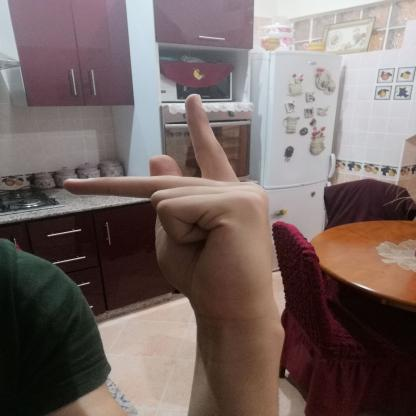DHAA: (48, 82, 289, 324)
